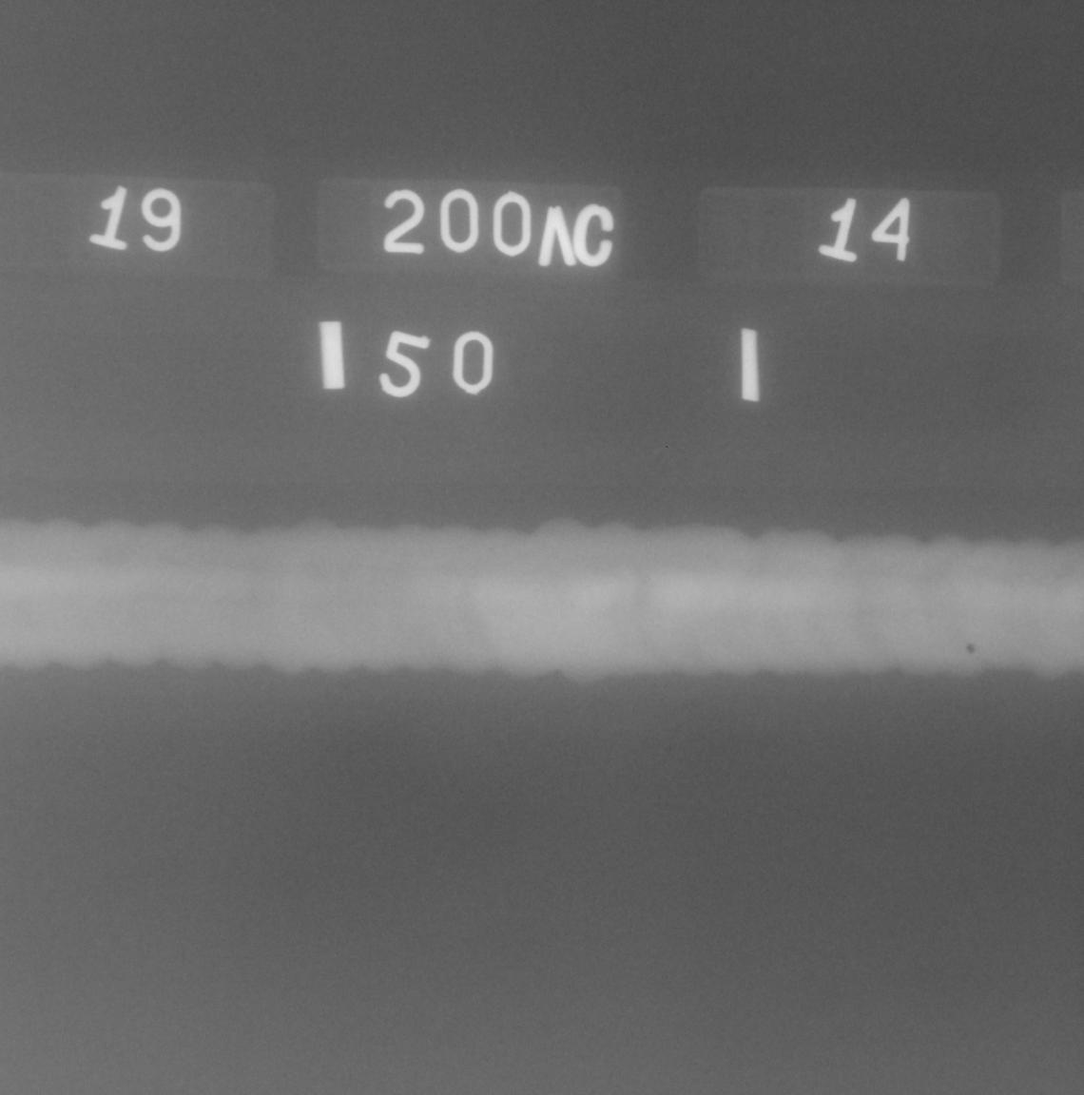Pore/Porosity: (966, 644, 974, 654)
